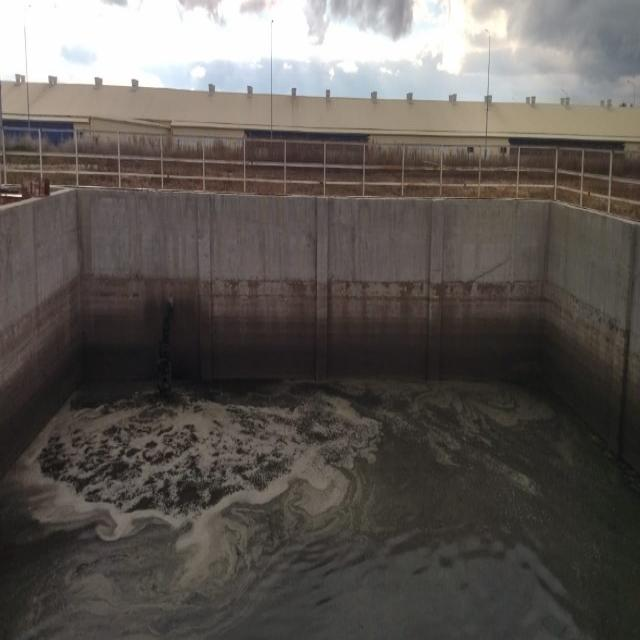fence: (0, 127, 640, 225)
liquid: (0, 378, 640, 640)
